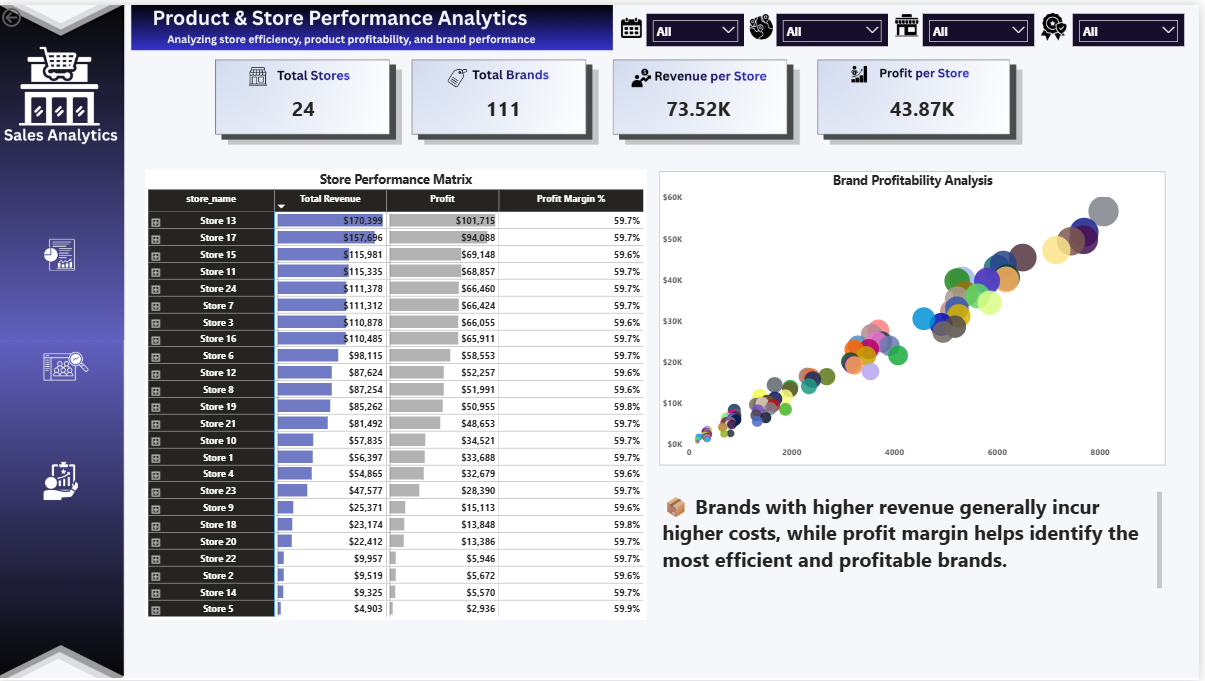

This screenshot's page, from the dashboard's own definition file:
{"tool":"powerbi","page":{"name":"PRODUCT & STORE PERFORMANCE","canvas":[1920,1080],"ordinal":2},"visuals":[{"type":"slicer","fields":{"Values":["Stores.store_country"]},"box":[1244,14,178,52],"z":0},{"type":"slicer","fields":{"Values":["Stores.store_type"]},"box":[1478,14,178,52],"z":1000},{"type":"slicer","fields":{"Values":["Products.product_brand"]},"box":[1718,14,178,52],"z":2000},{"type":"cardVisual","fields":{"Data":["Stores.Total Stores"]},"box":[362,122,250,82],"z":3000},{"type":"cardVisual","fields":{"Data":["Products.Total Brands"]},"box":[682,122,250,82],"z":4000},{"type":"cardVisual","fields":{"Data":["Stores.Revenue per Store"]},"box":[994,122,250,82],"z":5000},{"type":"cardVisual","fields":{"Data":["Stores.Profit per Store"]},"box":[1352,122,250,82],"z":6000},{"type":"scatterChart","title":"Brand Profitability Analysis","fields":{"Y":["Stores.Total Revenue"],"Size":["Calender.Profit"],"Series":["Products.product_brand"],"X":["Calender.Total Transactions"]},"box":[1056,266,810,470],"z":7000},{"type":"pivotTable","title":"Store Performance Matrix","fields":{"Rows":["Stores.store_name","Stores.store_type"],"Values":["Stores.Total Revenue","Calender.Profit","Calender.Profit Margin %"]},"box":[234,264,802,720],"z":8000},{"type":"textbox","box":[1056,774,810,168],"z":9000},{"type":"slicer","fields":{"Values":["Calender.Year"]},"box":[1036,14,156,52],"z":10000}]}

Visuals, with their boxes on the page's 1920x1080 design canvas (x1, y1, x2, y2). These are canvas units, not pixel positions in the 1205x681 screenshot, which may show the page scaled, cropped or inside an application window:
slicer - Stores.store_country: select_region(1244, 14, 1422, 66)
slicer - Stores.store_type: select_region(1478, 14, 1656, 66)
slicer - Products.product_brand: select_region(1718, 14, 1896, 66)
cardVisual - Stores.Total Stores: select_region(362, 122, 612, 204)
cardVisual - Products.Total Brands: select_region(682, 122, 932, 204)
cardVisual - Stores.Revenue per Store: select_region(994, 122, 1244, 204)
cardVisual - Stores.Profit per Store: select_region(1352, 122, 1602, 204)
"Brand Profitability Analysis" scatterChart: select_region(1056, 266, 1866, 736)
"Store Performance Matrix" pivotTable: select_region(234, 264, 1036, 984)
textbox: select_region(1056, 774, 1866, 942)
slicer - Calender.Year: select_region(1036, 14, 1192, 66)
